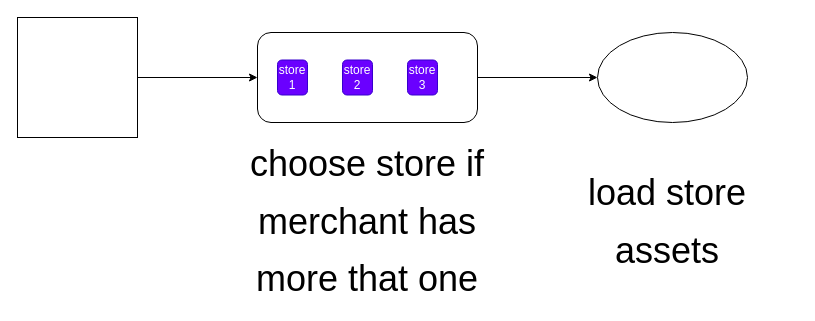
Some shapes in this 815 by 321 pixel diagram are drawn without their labels. The shapes that lost their labels are listed below. From the top down, each one's centre as x and y in pixels, then its label:
At pixel 77 77: "login".
At pixel 672 77: "load".
